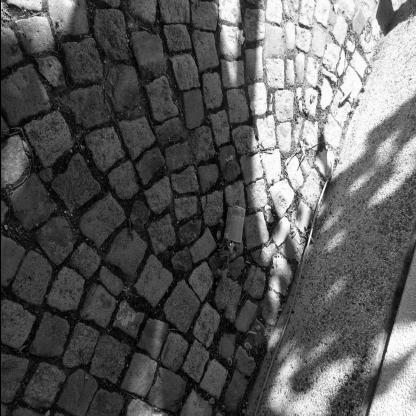metal: (222, 204, 244, 244)
